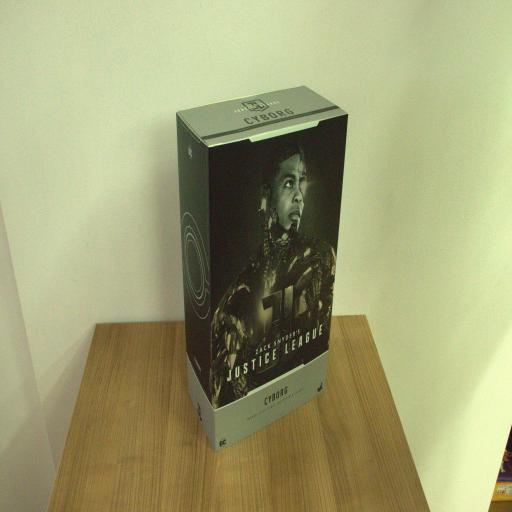Cyborg: (176, 85, 348, 454)
